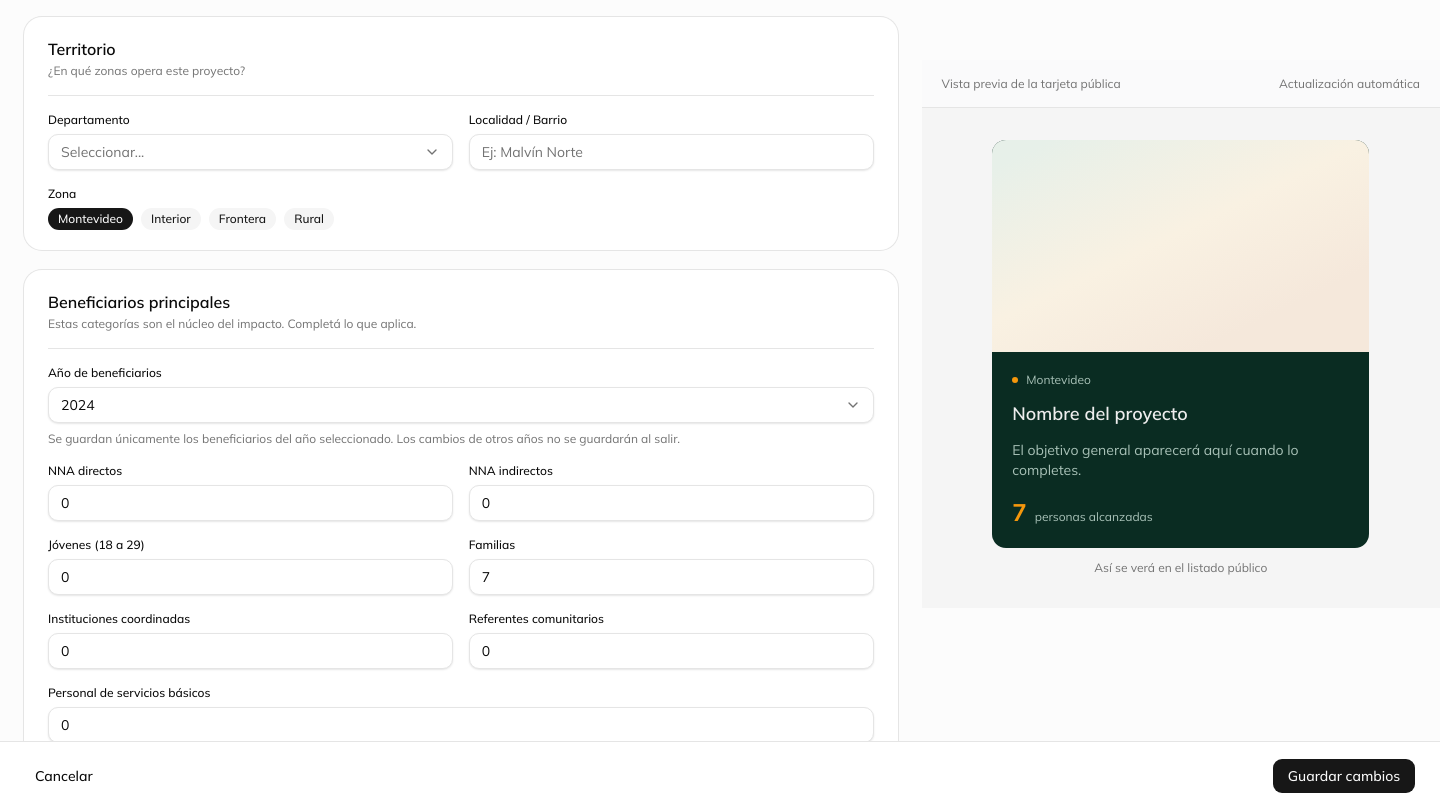
Test: clears an invalid closing year and advances beneficiaries to the start year
(page scrolled)
Expected: the field labelled "Familias" holds "7", [469,559,874,595]
Click the dropdown named "Año de beneficiarios": [78, 405] box [48,387,874,423]
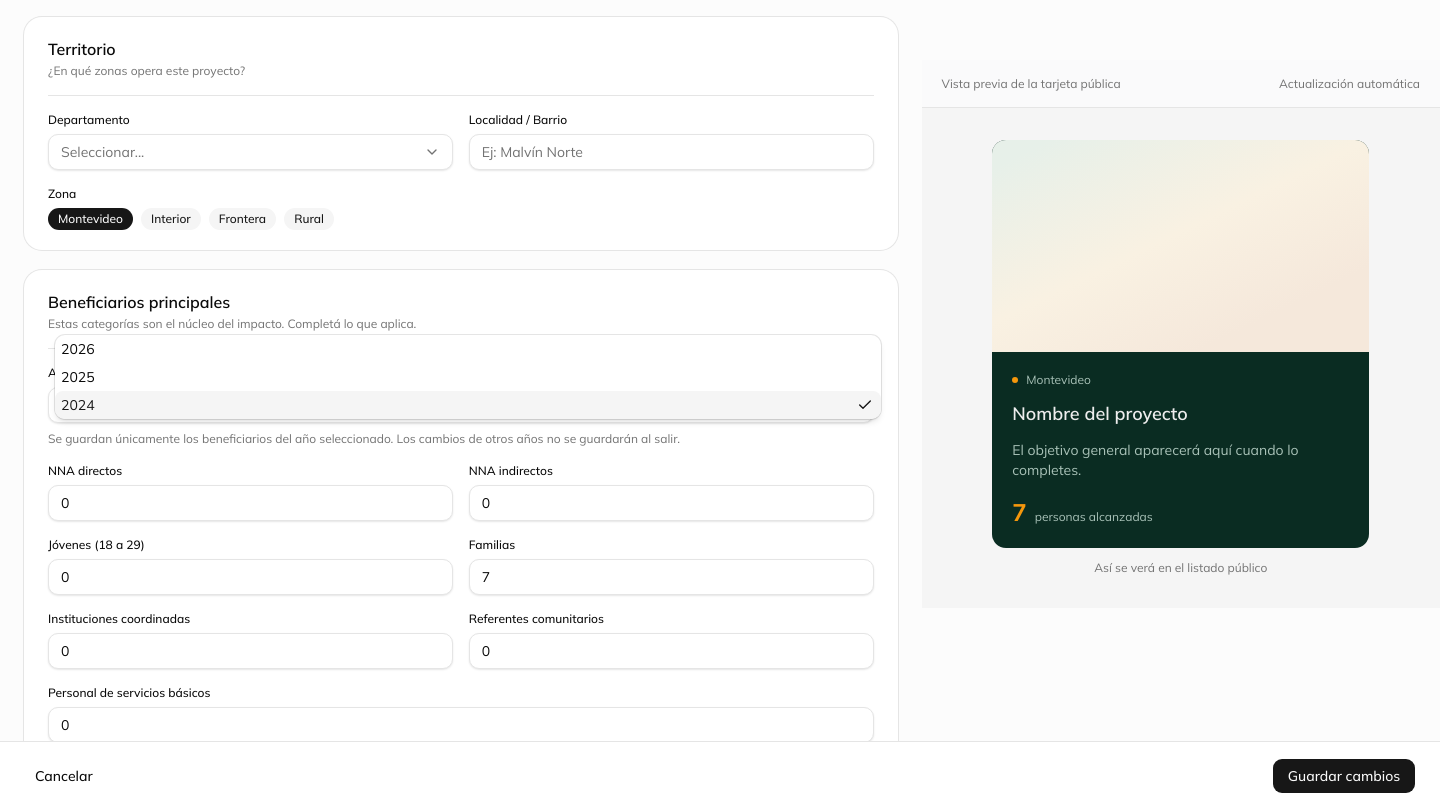
Result: the option "2024" is shown at [55,391,881,419]
